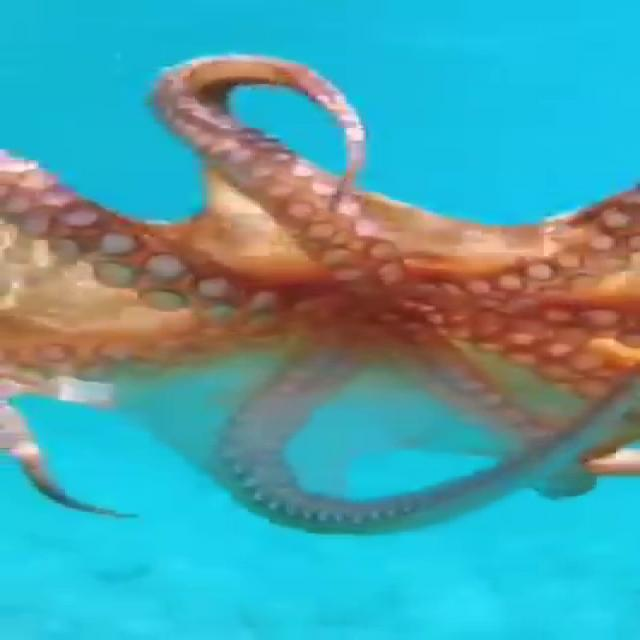octopus: (0, 48, 640, 546)
